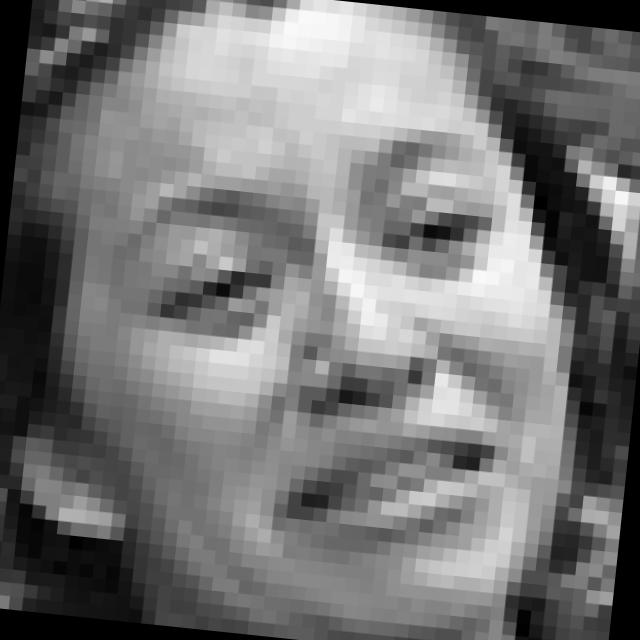sad: (78, 94, 554, 575)
